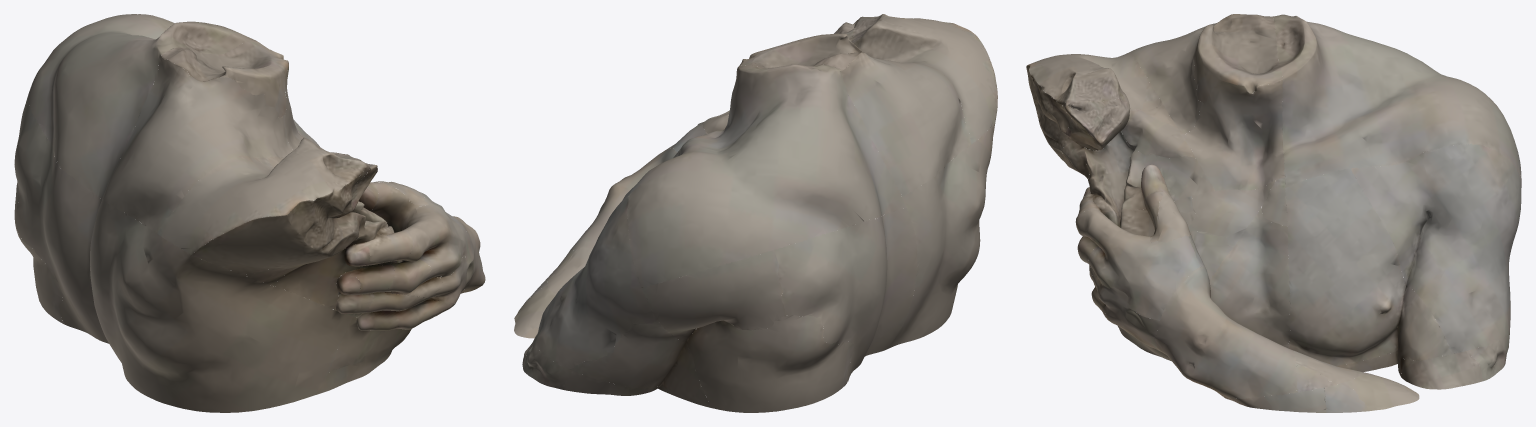
File: monument.glb
3 views of the same model, side by side, from view 1: azimuth 30°, elevation 25°; view 2: azimuth 150°, elevation 25°; view 3: azimuth 270°, elevation 25° (orthographic). The views are drawn at different scales.
Visible parts, largest first — view 1: ATL_Mass_BIG1_REAL; view 2: ATL_Mass_BIG1_REAL; view 3: ATL_Mass_BIG1_REAL.
Boxes of the visible parts, left/top/right/bottom form: ATL_Mass_BIG1_REAL: left=14, top=14, right=485, bottom=412; ATL_Mass_BIG1_REAL: left=514, top=14, right=997, bottom=412; ATL_Mass_BIG1_REAL: left=1026, top=14, right=1521, bottom=412.
Size of the model in its own units: 5.54 by 4.1 by 6.71.
Materials: 1 (1 with a texture image).
